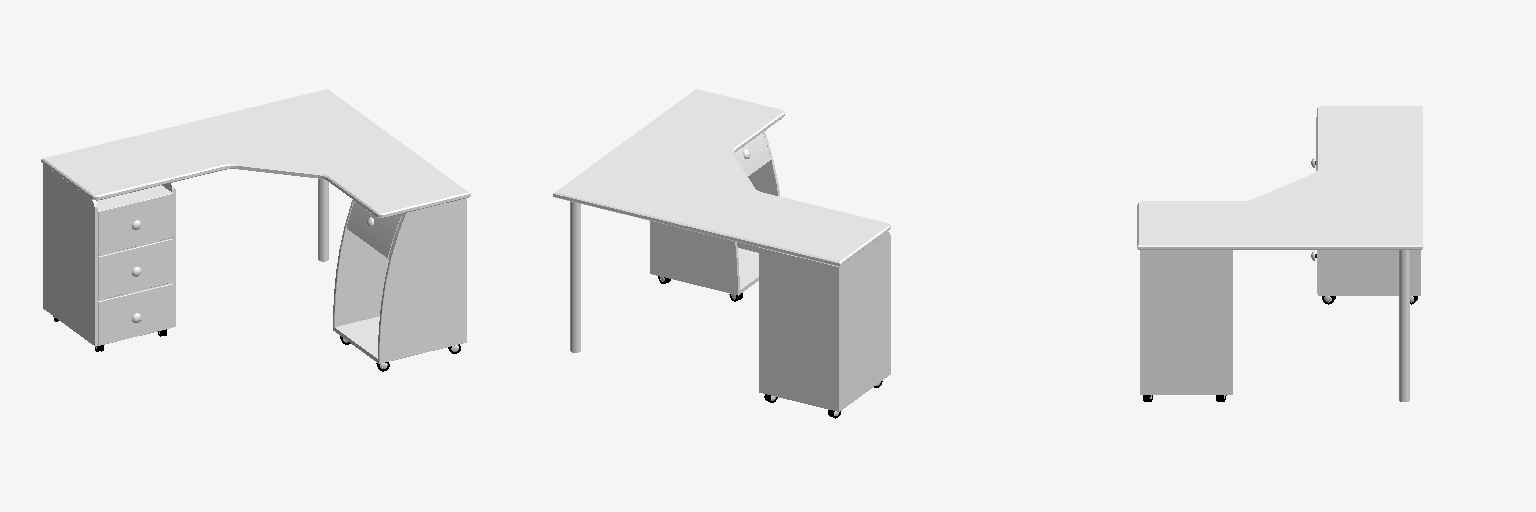
Rendered from child-desk-second.obj.
3 views of the same model, side by side, from view 1: azimuth 30°, elevation 25°; view 2: azimuth 150°, elevation 25°; view 3: azimuth 270°, elevation 25° (orthographic).
Parts seen in each view (by area): view 1: child-desk-second; view 2: child-desk-second; view 3: child-desk-second.
Part boxes in pixels (left/top/right/bottom): child-desk-second: left=41, top=89, right=470, bottom=371; child-desk-second: left=553, top=89, right=890, bottom=418; child-desk-second: left=1137, top=106, right=1422, bottom=401.
Bounding box in the file's own units: 2 × 1.07 × 1.72.